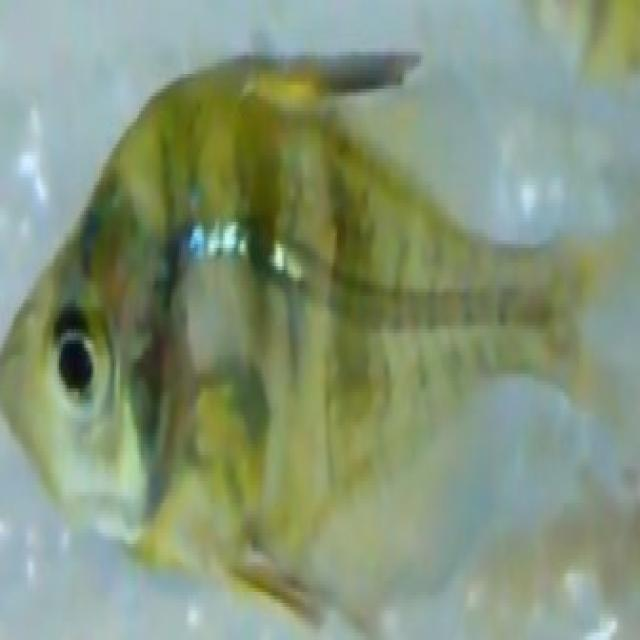Glass-Perchlet: (0, 27, 633, 597)
